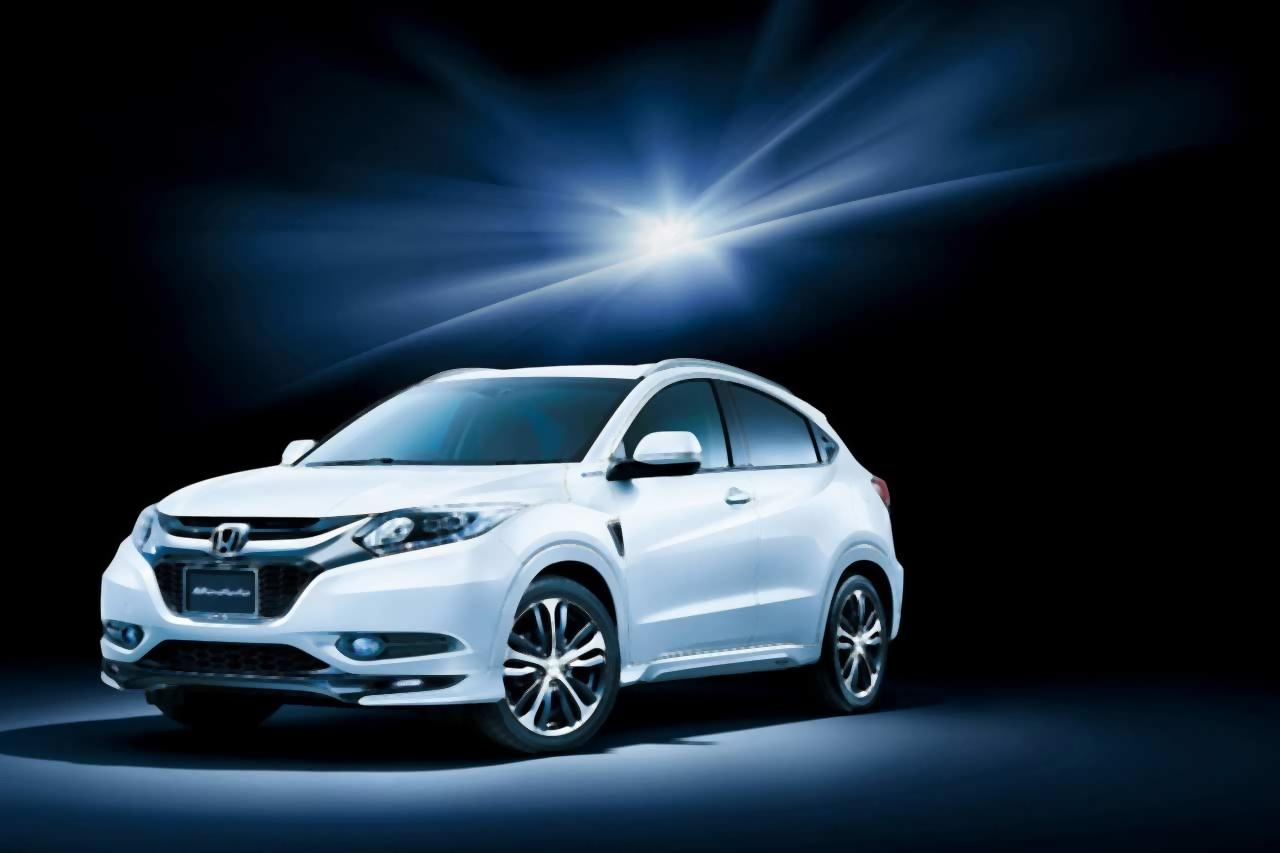Car hood: (157, 459, 580, 520)
Fender - -F-L-: (492, 457, 635, 692)
Fender - -R-L-: (835, 475, 903, 585)
Front bumper: (92, 565, 515, 722)
Headlight - -L-: (342, 485, 535, 569)
Headlight - -R-: (119, 494, 166, 568)
Passenger-s door - -F-L-: (634, 354, 754, 662)
Passenger-s door - -R-L-: (745, 376, 864, 659)
Rear bumper: (877, 567, 926, 653)
Rear light - -L-: (377, 460, 798, 536), (862, 459, 900, 512)
Side bumper - -L-: (609, 640, 829, 698)
Side mirror - -L-: (609, 425, 707, 483)
Side mirror - -R-: (274, 430, 341, 479)
